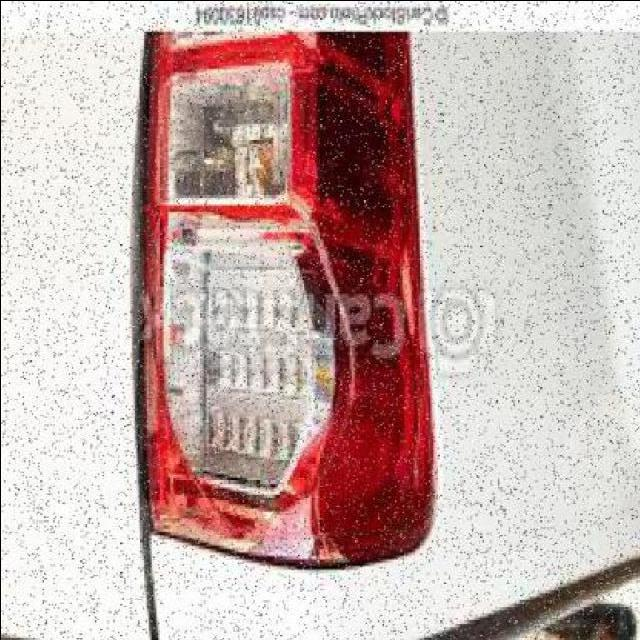Taillight-Damage: (141, 36, 445, 578)
